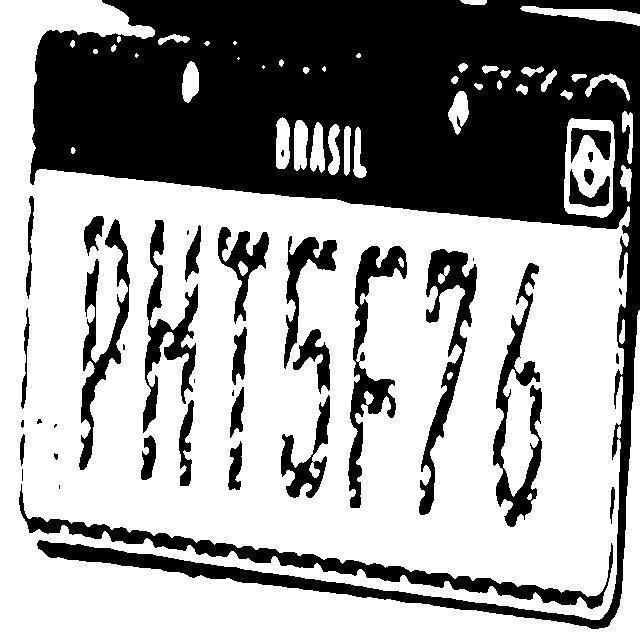5: (274, 229, 336, 506)
6: (486, 257, 556, 531)
7: (418, 241, 476, 524)
f: (345, 230, 411, 518)
h: (138, 219, 210, 496)
p: (70, 212, 131, 476)
t: (214, 222, 273, 496)
